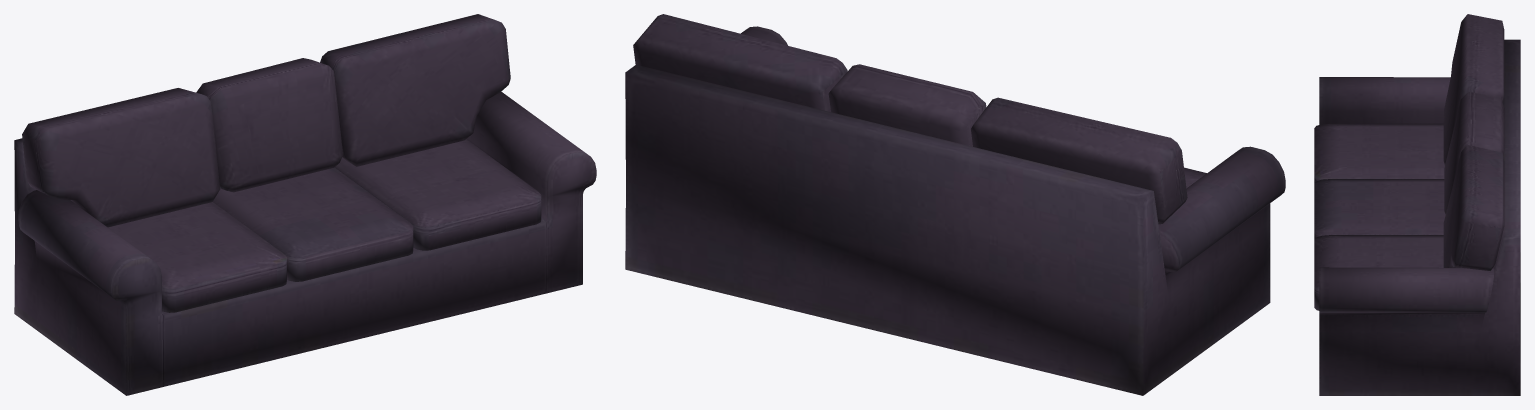
File: sofa_02.obj
3 views of the same model, side by side, from view 1: azimuth 30°, elevation 25°; view 2: azimuth 150°, elevation 25°; view 3: azimuth 270°, elevation 25° (orthographic). The views are drawn at different scales.
Size of the model in its own units: 2.12 by 0.8576 by 0.8713.
Materials: 1 (1 with a texture image).
